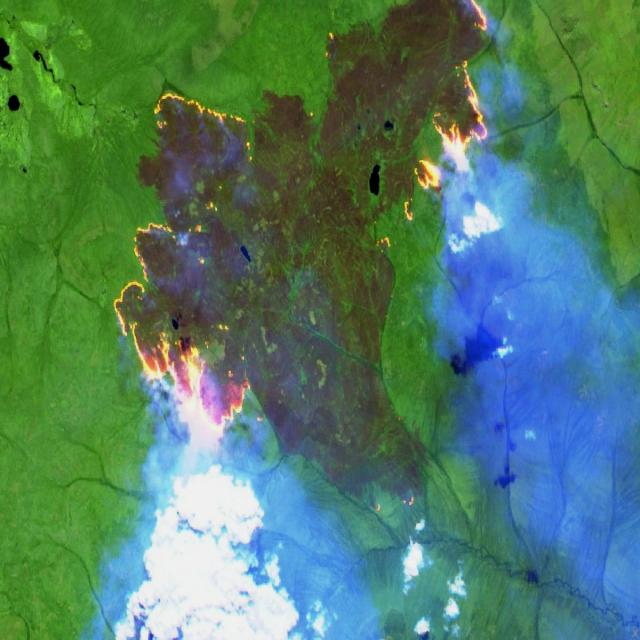fire: (110, 91, 255, 448), (402, 0, 492, 225), (371, 230, 394, 258)
